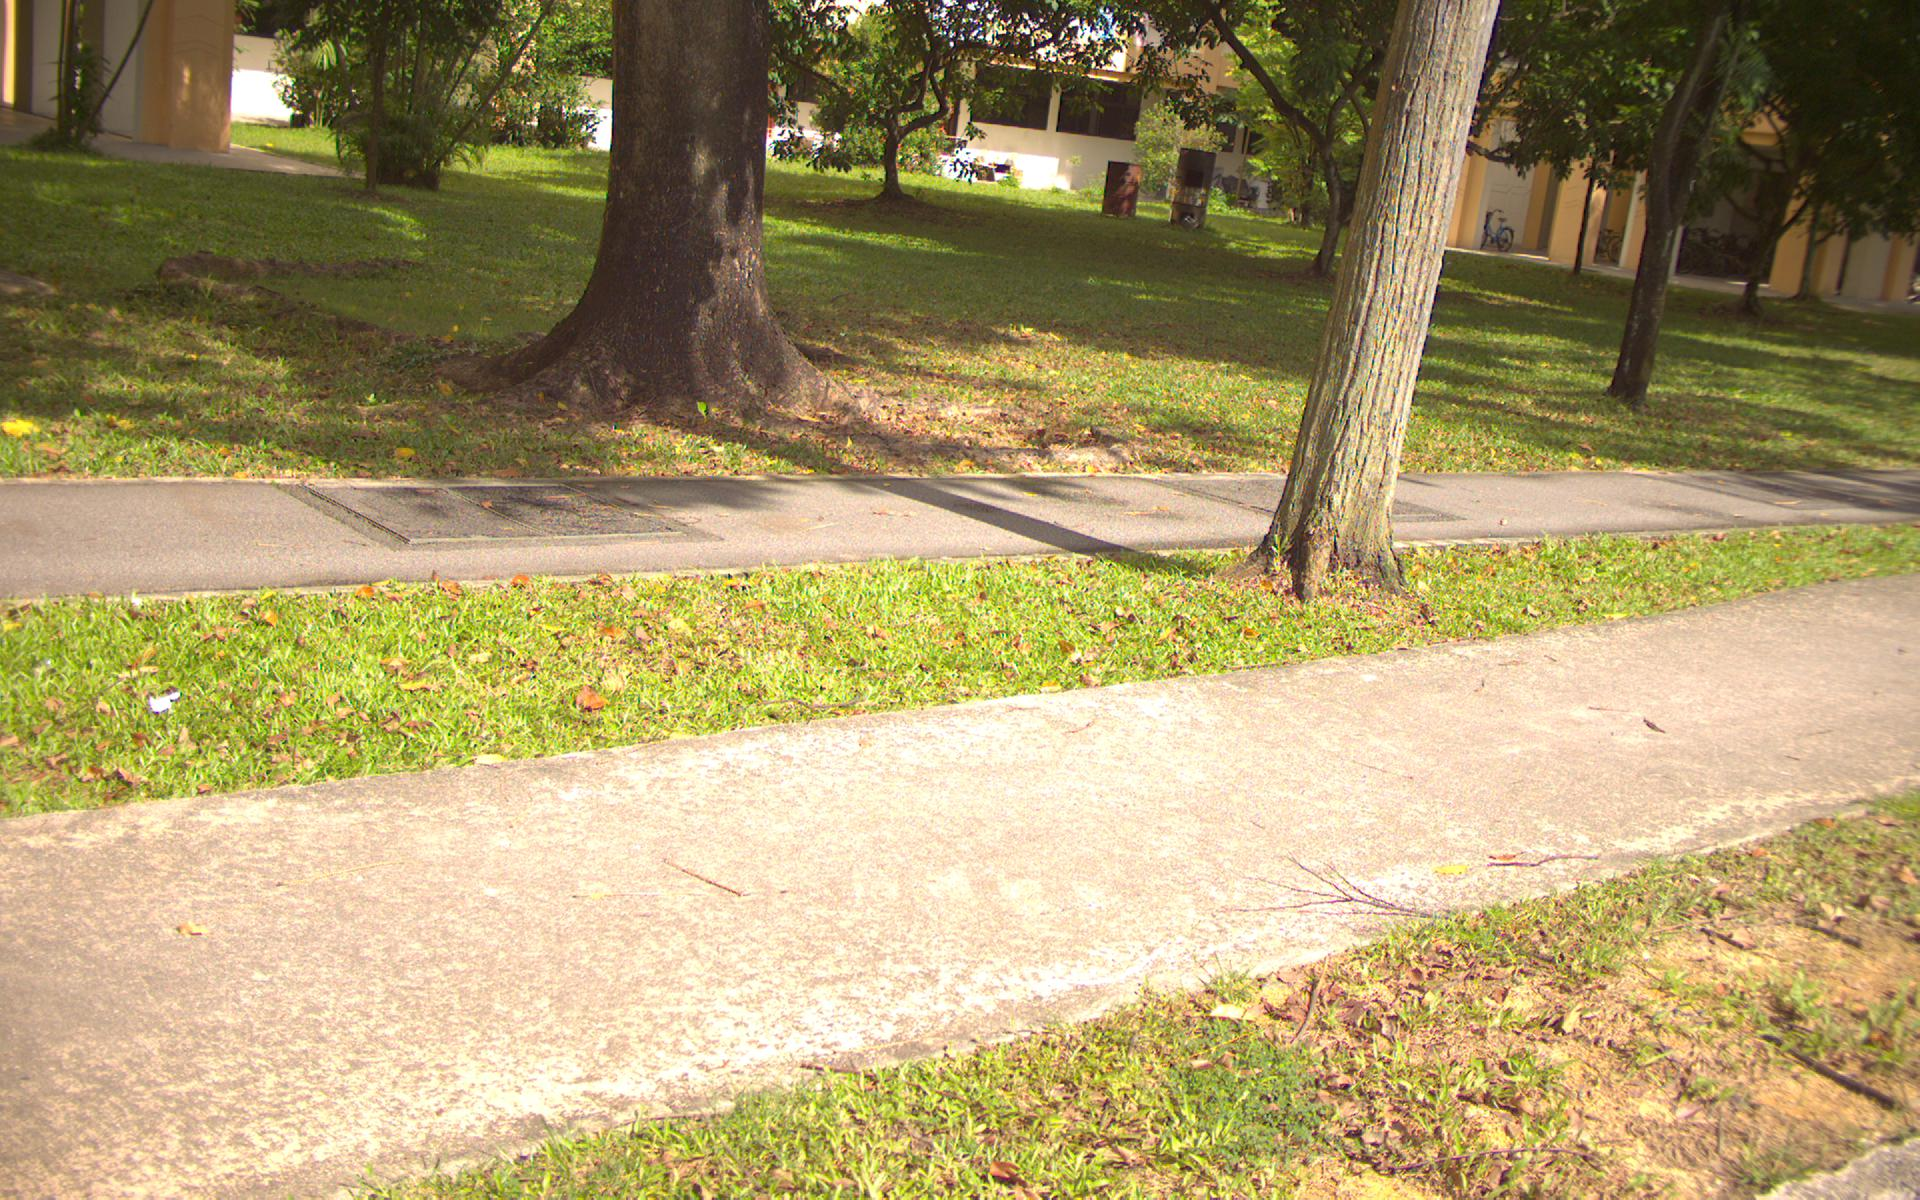pathway_low: (4, 818, 702, 1160), (733, 745, 1333, 1011), (10, 488, 1920, 521)
road_turf_low: (23, 166, 1089, 487), (1440, 921, 1920, 1163), (4, 610, 1295, 671)
